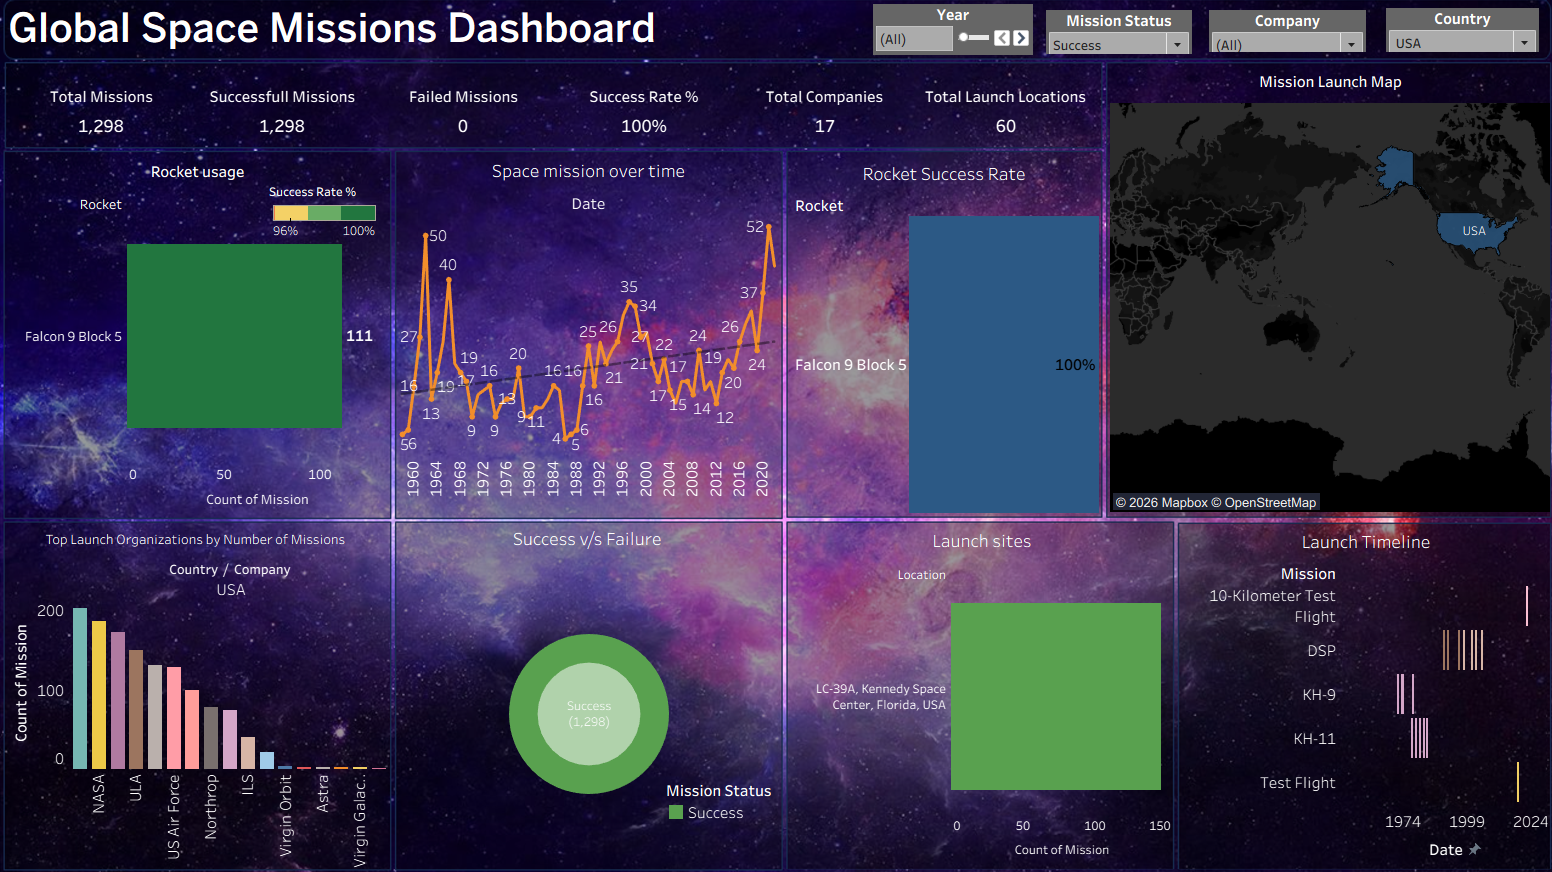

This screenshot's page, from the dashboard's own definition file:
{"tool":"tableau","page":{"name":"Space mission dashboard","canvas":[1580,900],"ordinal":0},"visuals":[{"type":"image","param":"Image/space background.png","box":[8,8,1564,884]},{"type":"filter","title":"Filters","param":"[federated.16n310l1mkbzr01efwcor0iu8qdv].[yr:Date:ok]","box":[885,17,160,51]},{"type":"text","box":[17,21,664,41]},{"type":"filter","title":"Filters","param":"[federated.16n310l1mkbzr01efwcor0iu8qdv].[none:Calculation_0682570195472391:nk]","box":[1398,21,153,44]},{"type":"filter","title":"Filters","param":"[federated.16n310l1mkbzr01efwcor0iu8qdv].[none:MissionStatus:nk]","box":[1058,23,146,44]},{"type":"filter","title":"Filters","param":"[federated.16n310l1mkbzr01efwcor0iu8qdv].[none:Company:nk]","box":[1221,23,157,42]},{"type":"worksheet","title":"KPI Cards","mark":"Text","box":[23,80,1085,77]},{"type":"worksheet","title":"Mission Launch Map","mark":"Automatic","box":[1122,80,441,445]},{"type":"worksheet","title":"Space mission over time","mark":"Automatic","rows":["Mission"],"cols":["Date"],"box":[411,167,379,362]},{"type":"worksheet","title":"Rocket usage","mark":"Automatic","rows":["Rocket"],"cols":["Mission"],"box":[19,170,381,358]},{"type":"worksheet","title":"Rocket Success Rate","mark":"Square","rows":["Rocket"],"box":[801,170,310,356]},{"type":"legend","title":"Rocket usage","param":"[federated.16n310l1mkbzr01efwcor0iu8qdv].[usr:Calculation_0682570191486979:qk]","box":[281,196,111,70]},{"type":"worksheet","title":"Success v/s Failure ","mark":"Pie","rows":["Calculation_0682570200645641","Calculation_0682570200645641"],"box":[411,535,380,345]},{"type":"worksheet","title":"Launch sites","mark":"Automatic","rows":["Location"],"cols":["Mission"],"box":[803,537,382,341]},{"type":"worksheet","title":"Launch Timeline","mark":"GanttBar","rows":["Mission"],"cols":["Date"],"box":[1193,538,370,342]},{"type":"worksheet","title":"Top Launch Organizations by Number of Missions","mark":"Automatic","rows":["Mission"],"cols":["Calculation_0682570195472391","Company"],"box":[15,539,385,343]},{"type":"worksheet","title":"Filters","mark":"Automatic","box":[482,587,64,38]},{"type":"legend","title":"Success v/s Failure ","param":"[federated.16n310l1mkbzr01efwcor0iu8qdv].[none:MissionStatus:nk]","box":[678,793,107,85]}]}

Visuals, with their boxes in screenshot pixels (x1, y1, x2, y2), scaled from the page's 1580x900 canvas onto the 1552x872 screenshot:
image: [left=8, top=8, right=1544, bottom=864]
"Filters" filter: [left=869, top=16, right=1026, bottom=66]
text: [left=17, top=20, right=669, bottom=60]
"Filters" filter: [left=1373, top=20, right=1524, bottom=63]
"Filters" filter: [left=1039, top=22, right=1183, bottom=65]
"Filters" filter: [left=1199, top=22, right=1354, bottom=63]
"KPI Cards" worksheet (Text marks): [left=23, top=78, right=1088, bottom=152]
"Mission Launch Map" worksheet: [left=1102, top=78, right=1535, bottom=509]
"Space mission over time" worksheet: [left=404, top=162, right=776, bottom=513]
"Rocket usage" worksheet: [left=19, top=165, right=393, bottom=512]
"Rocket Success Rate" worksheet (Square marks): [left=787, top=165, right=1091, bottom=510]
"Rocket usage" legend: [left=276, top=190, right=385, bottom=258]
"Success v/s Failure " worksheet (Pie marks): [left=404, top=518, right=777, bottom=853]
"Launch sites" worksheet: [left=789, top=520, right=1164, bottom=851]
"Launch Timeline" worksheet (GanttBar marks): [left=1172, top=521, right=1535, bottom=853]
"Top Launch Organizations by Number of Missions" worksheet: [left=15, top=522, right=393, bottom=855]
"Filters" worksheet: [left=473, top=569, right=536, bottom=606]
"Success v/s Failure " legend: [left=666, top=768, right=771, bottom=851]
